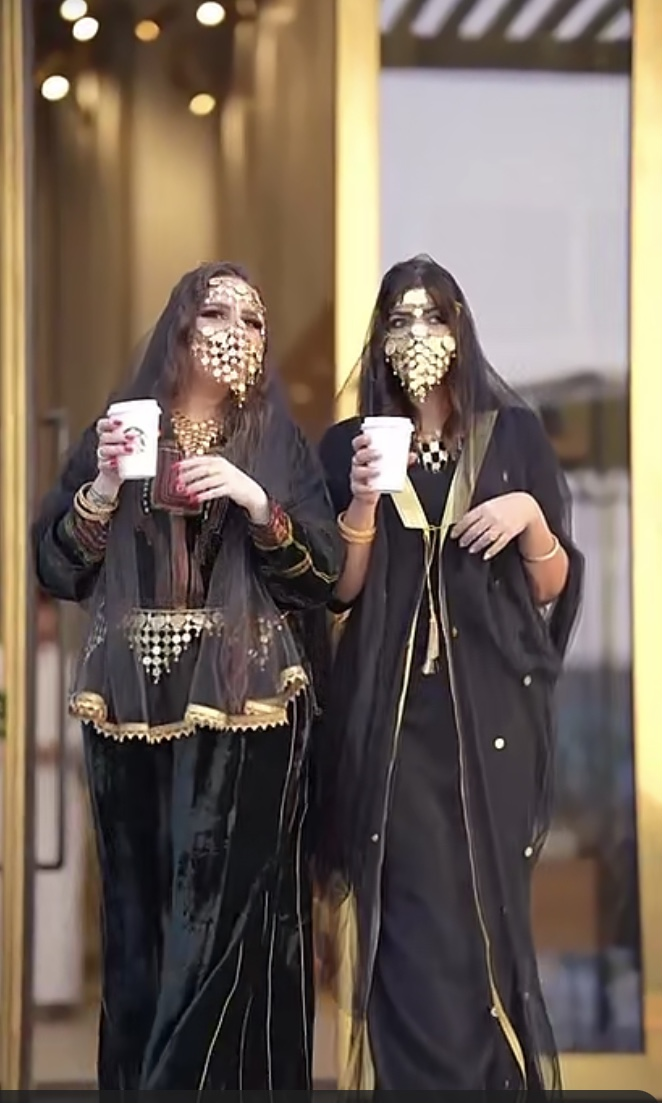Saudi_Founding_Day: (27, 256, 350, 1092), (315, 251, 588, 1101)
